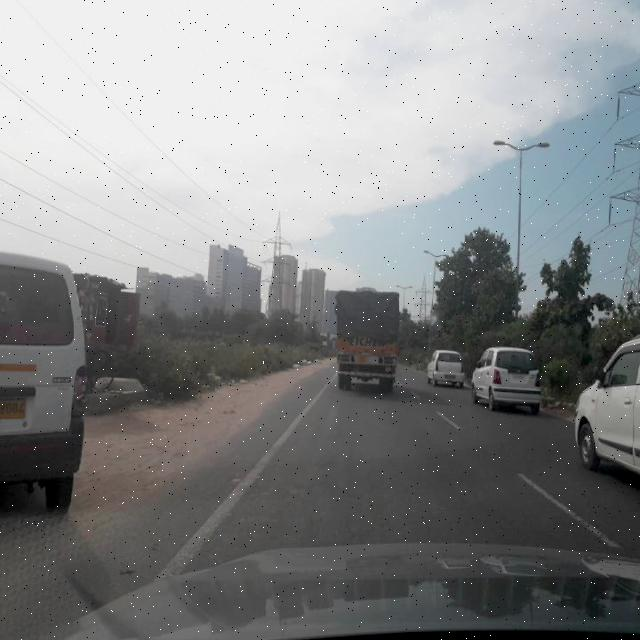D20: (206, 420, 568, 554)
